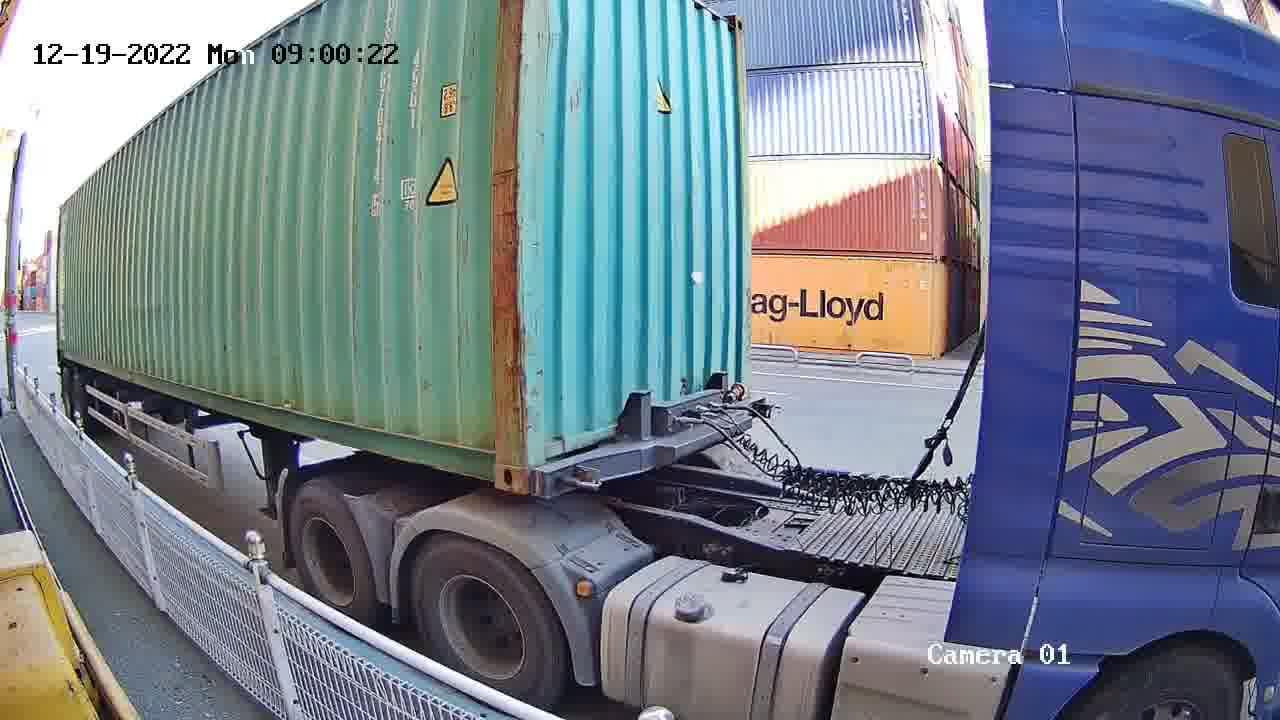Chassis: (533, 395, 768, 496)
Cone: (556, 461, 601, 491), (751, 401, 778, 422)
Hole_R: (466, 430, 528, 495)
Tire: (413, 538, 562, 693), (288, 486, 374, 614)
